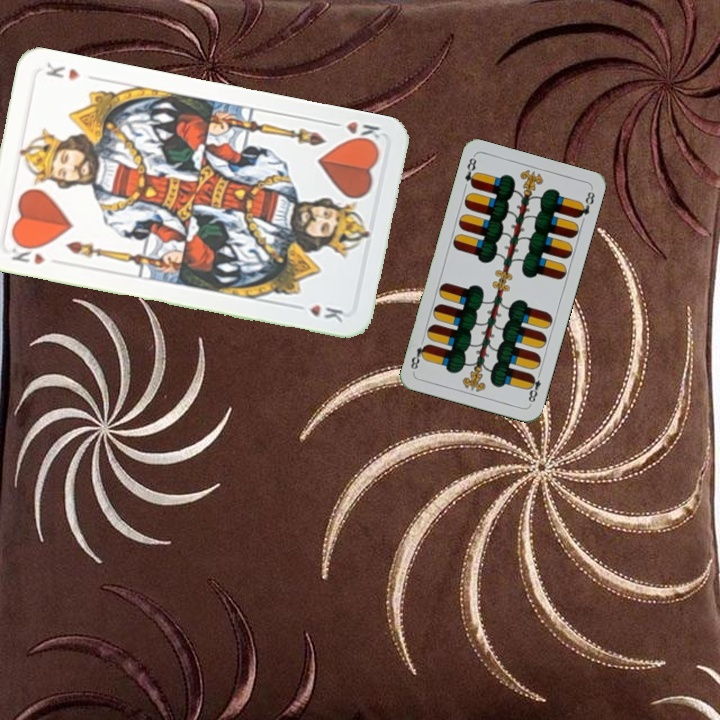E8: (524, 367, 544, 407), (461, 153, 480, 190)
HK: (325, 117, 384, 148), (4, 238, 48, 267)
